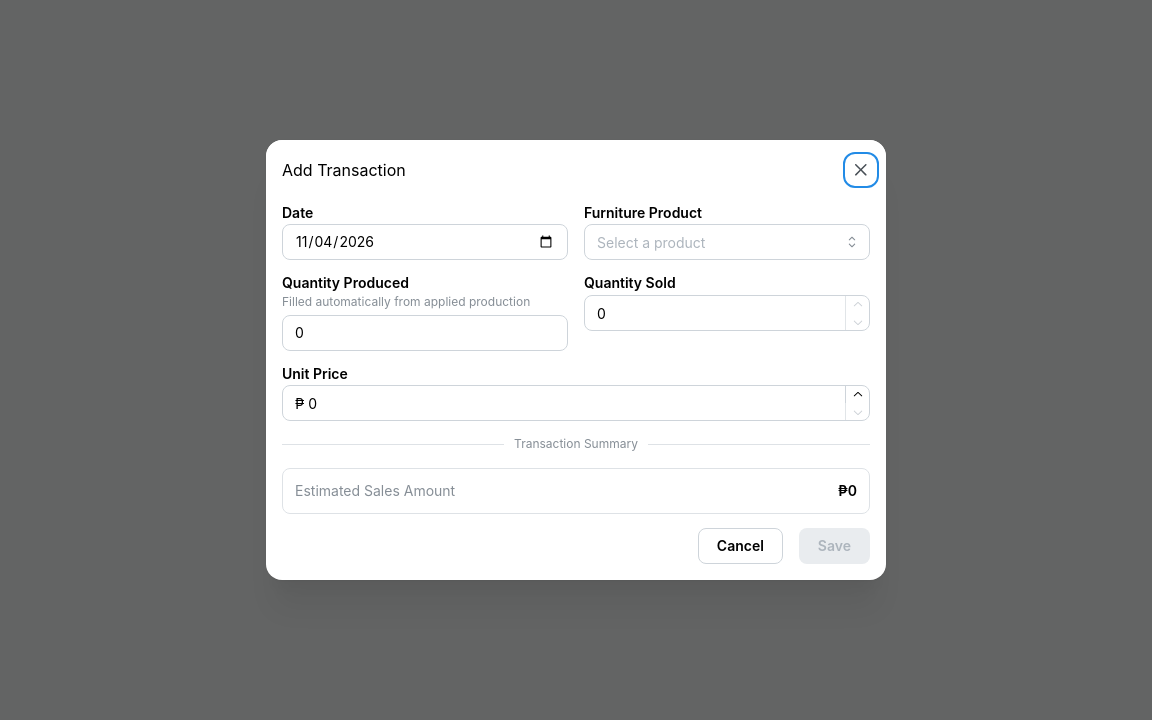
it: AddTransactionModal › shows available stock for the selected product
Click the dropdown labelled "Furniture Product" at (727, 242), box [584,224,870,260]
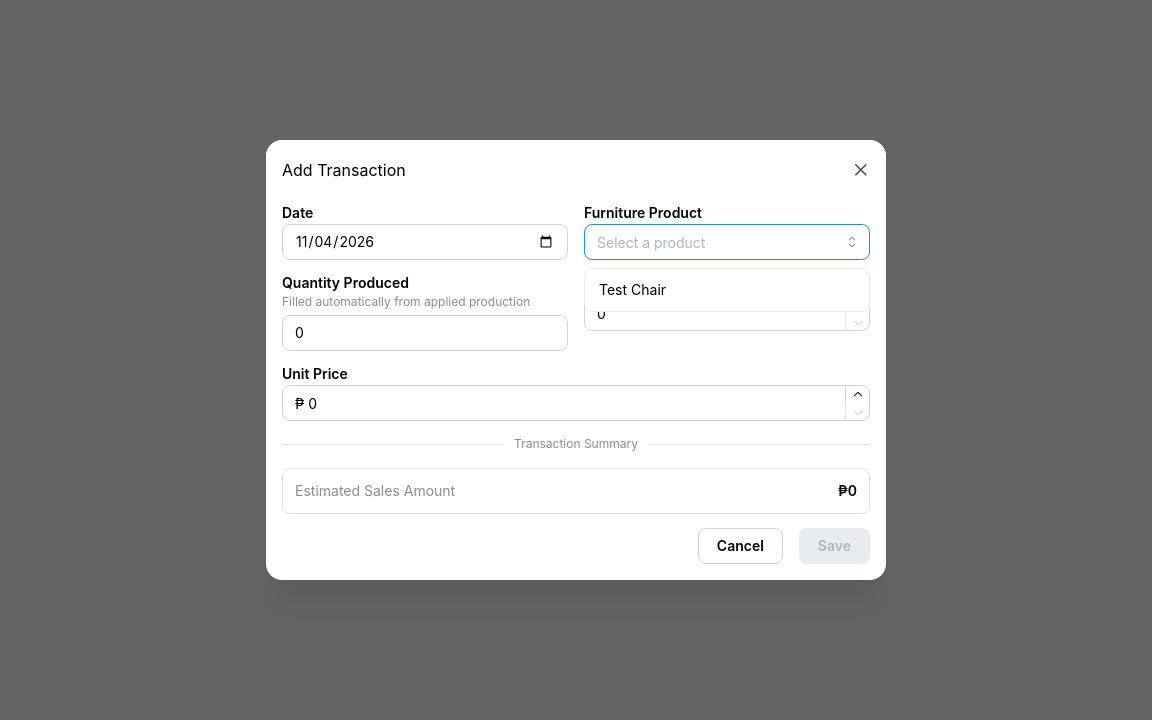
Click the option "Test Chair" at (632, 290), box [599,282,666,298]
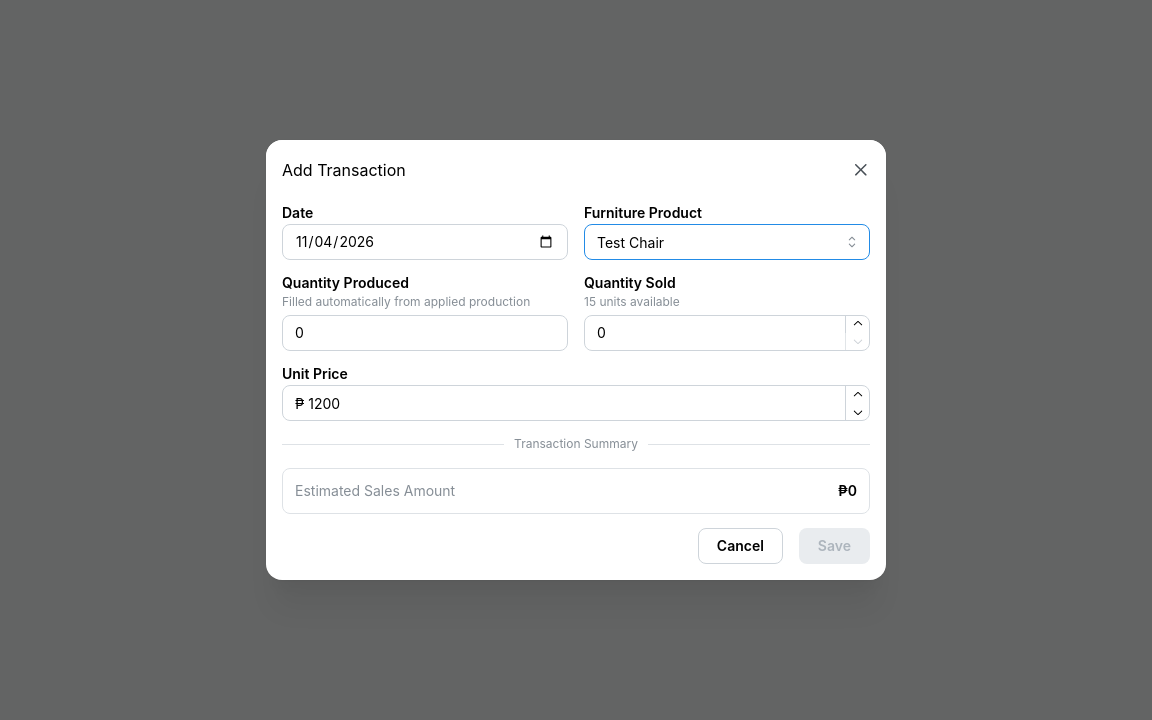
Result: the text "15 units available" is shown at [584,294,680,309]
